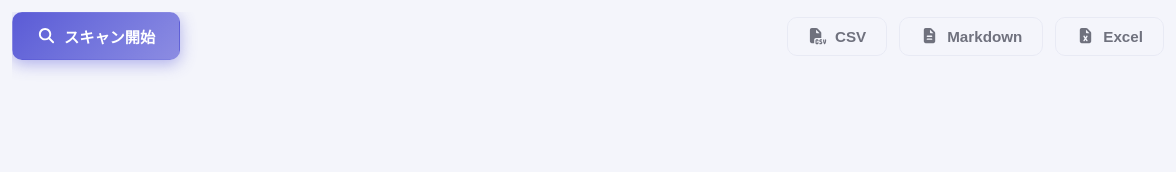
Test: ScanServicesPanel › unauthorizedの場合、サインインを促すメッセージを表示する
This screenshot has width=1176, height=172.
Click the button "スキャン開始".
click(96, 36)  # box [12,12,180,60]
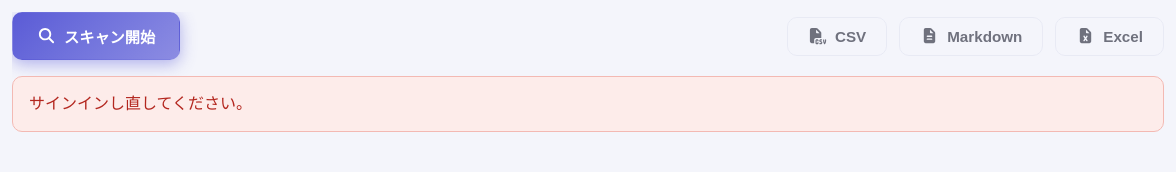
Expected: the message reads "サインインし直してください。", [29,93,252,113]
